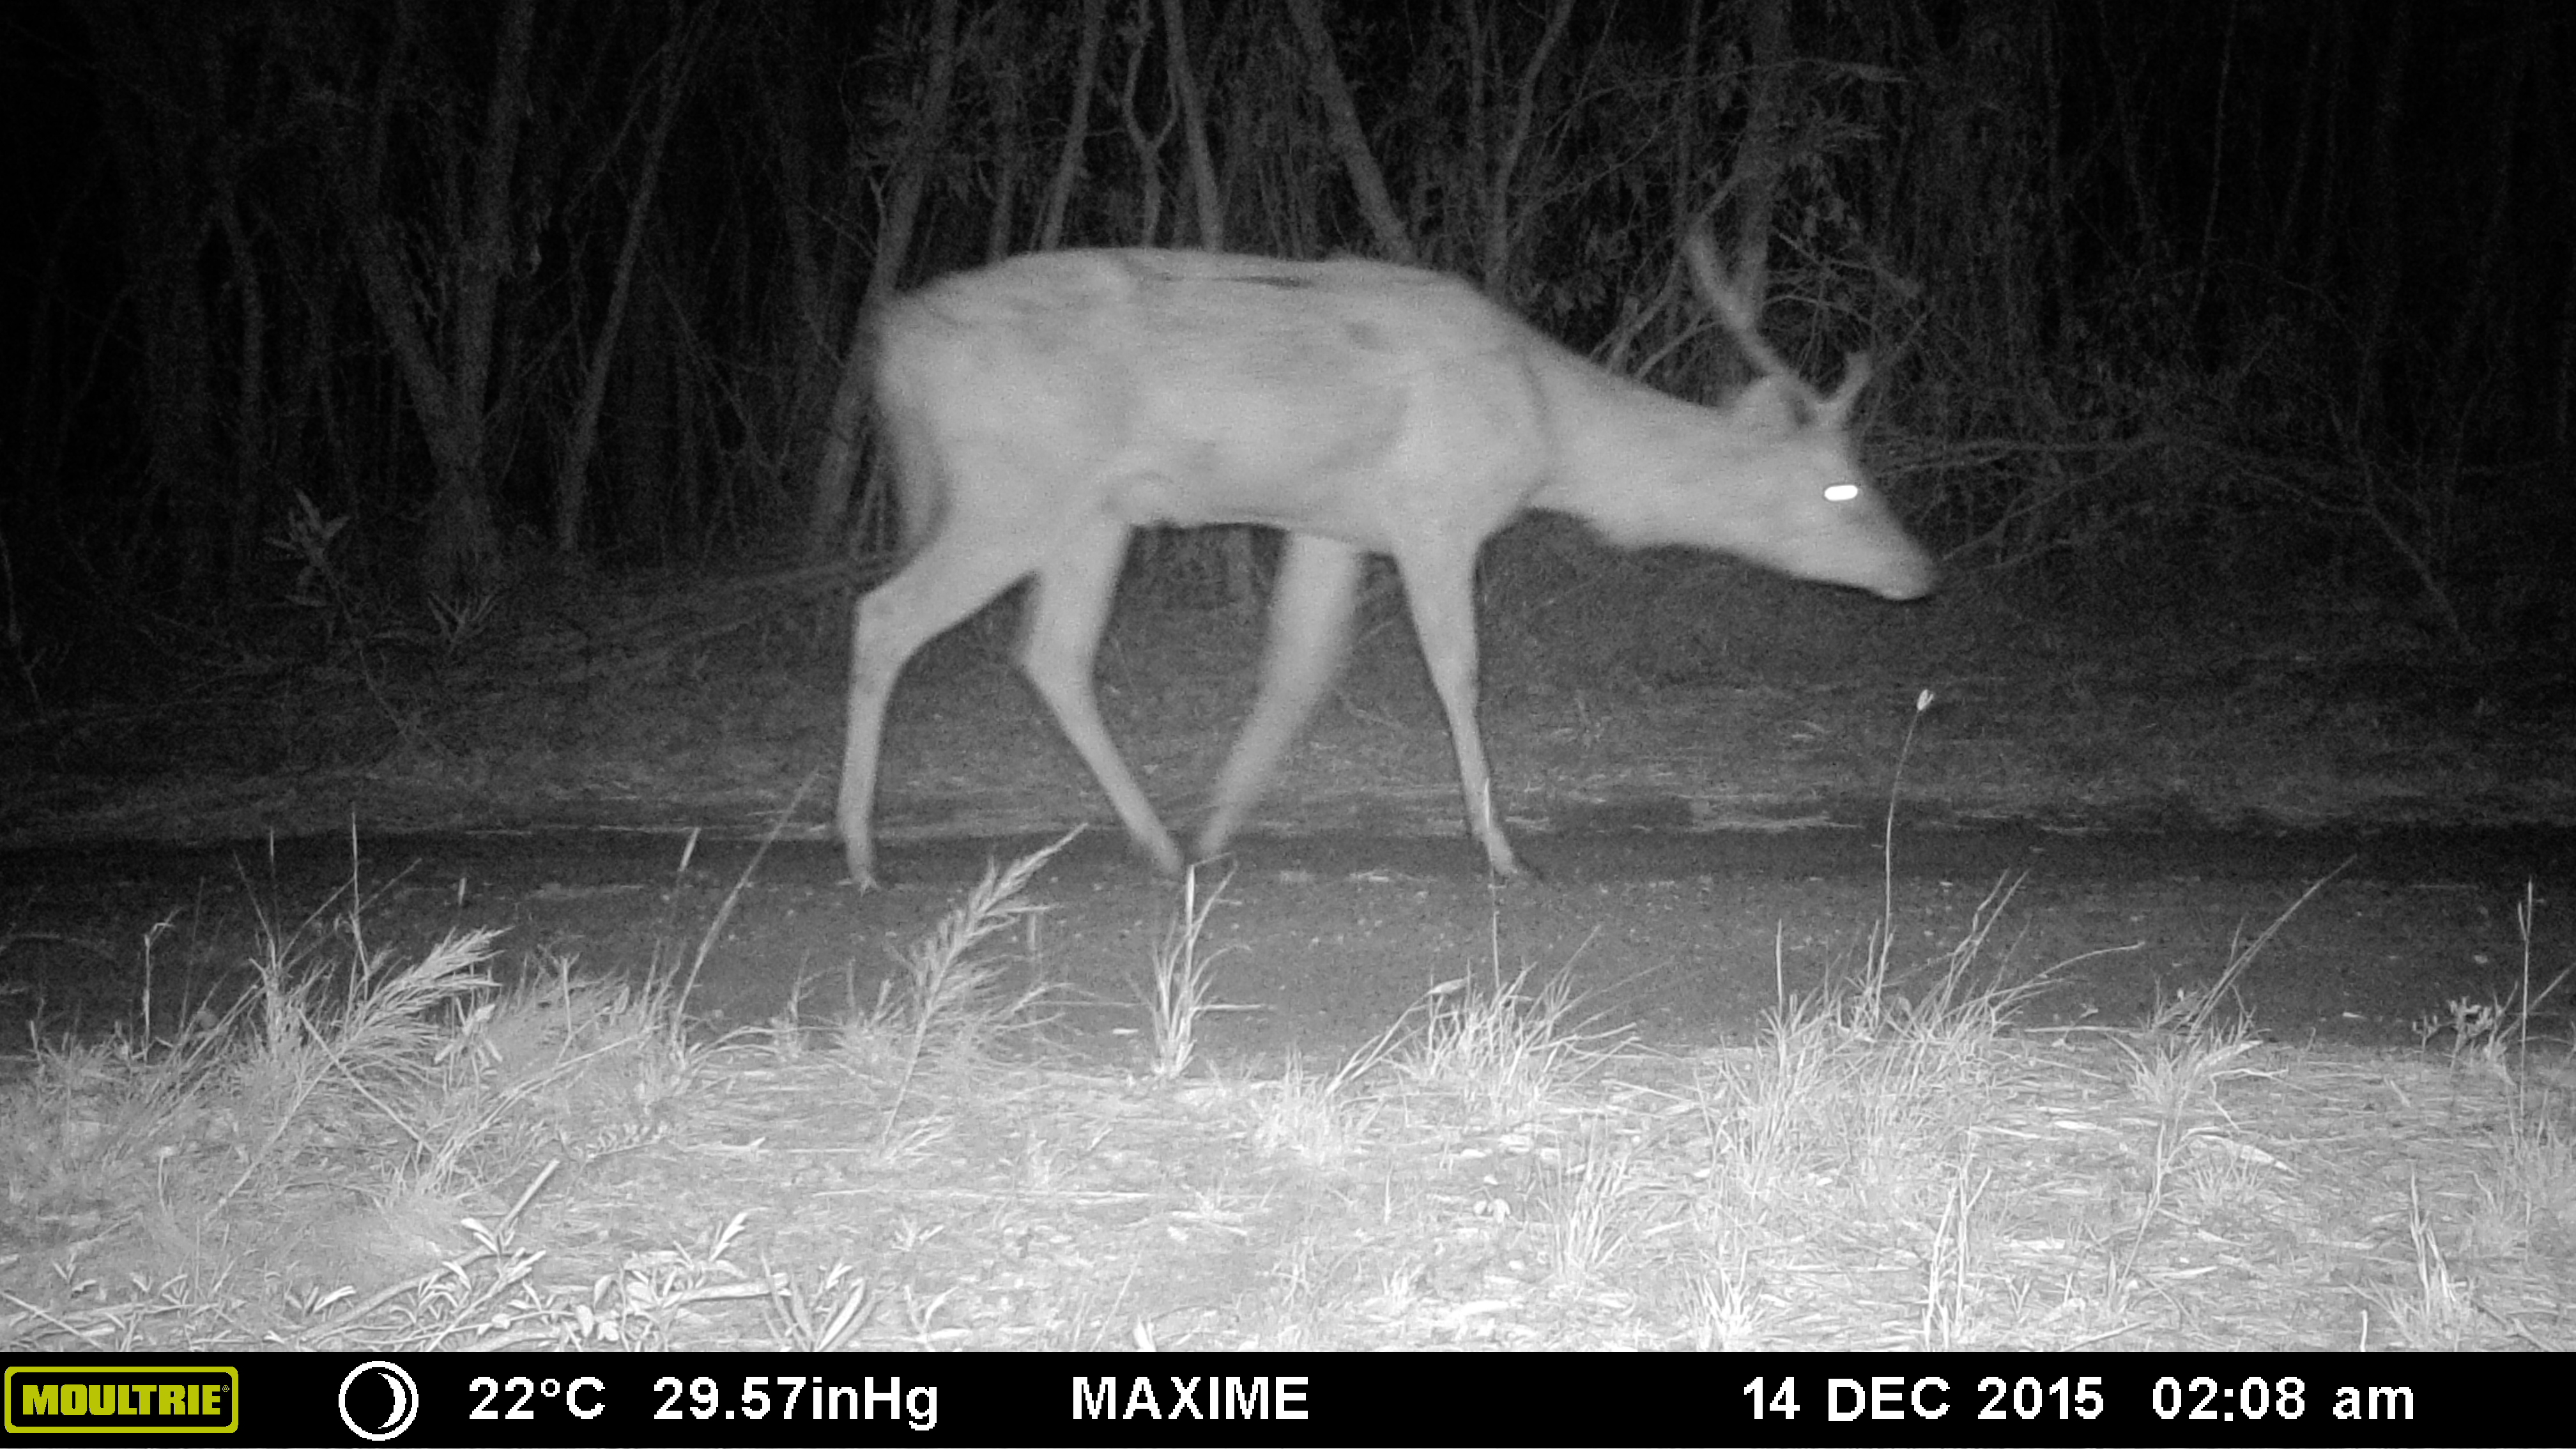Deer: (814, 218, 1973, 934)
